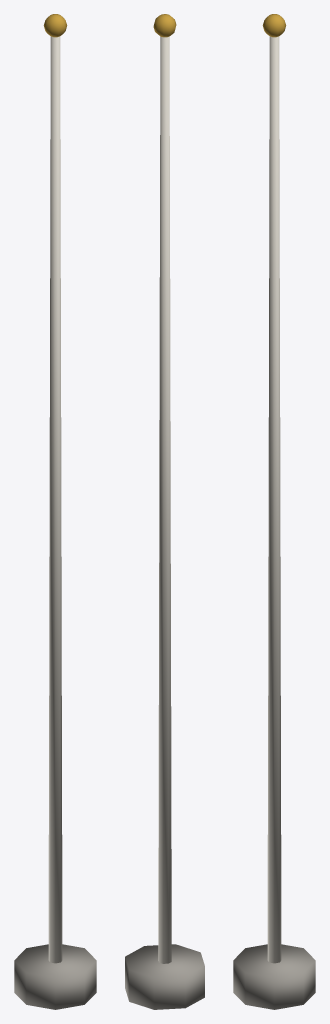
Rendered from flagpole.glb.
3 renders of one model, left to right at view 1: azimuth 90°, elevation 25°; view 2: azimuth 210°, elevation 25°; view 3: azimuth 270°, elevation 25°, orthographic.
Parts seen in each view (by area): view 1: flagpole; view 2: flagpole; view 3: flagpole.
Boxes of the visible parts, left/top/right/bottom form: flagpole: left=14, top=14, right=96, bottom=1009; flagpole: left=125, top=14, right=204, bottom=1009; flagpole: left=233, top=14, right=315, bottom=1009.
Bounding box in the file's own units: 0.7003 × 9.15 × 0.7003.
